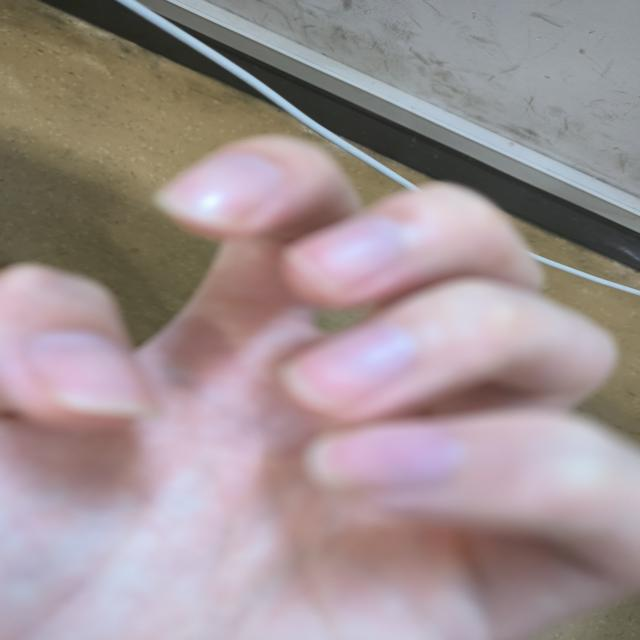Nail: (284, 325, 423, 410), (308, 426, 462, 491), (36, 334, 161, 414), (158, 153, 290, 225), (289, 220, 404, 289)
